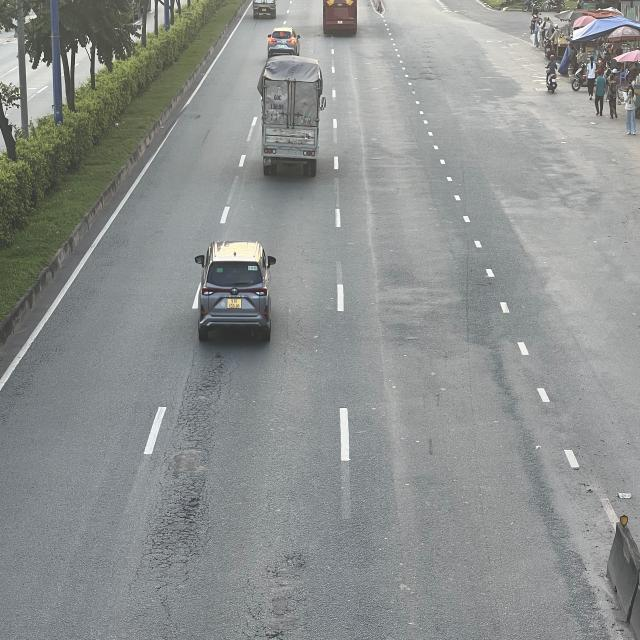car: (192, 243, 274, 343), (268, 28, 301, 55)
truck: (259, 55, 325, 174)
